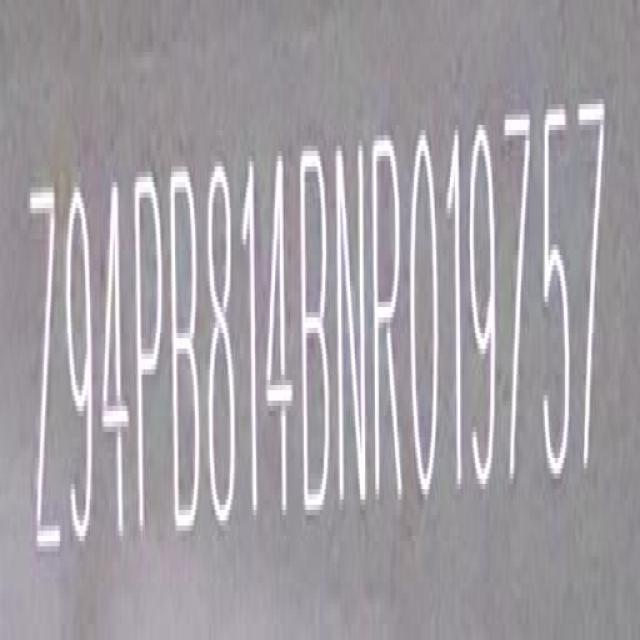0: (410, 126, 442, 504)
1: (442, 121, 464, 507), (243, 155, 261, 528)
4: (100, 176, 132, 558), (264, 151, 294, 525)
5: (542, 99, 575, 491)
7: (506, 100, 538, 498), (580, 96, 608, 484)
8: (206, 164, 238, 538)
9: (466, 117, 499, 501), (66, 182, 95, 564)
B: (301, 144, 335, 518), (171, 163, 204, 540)
N: (336, 135, 369, 515)
P: (134, 168, 165, 549)
R: (374, 130, 408, 510)
Z: (34, 183, 62, 570)
